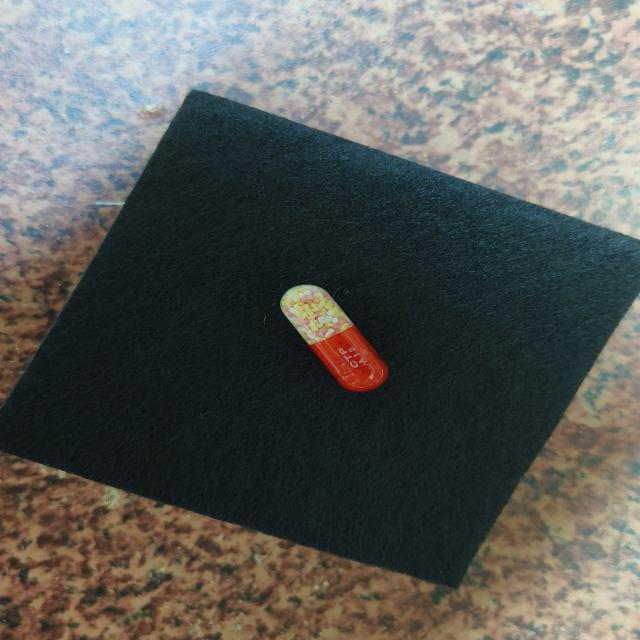Intact Capsule: (280, 285, 389, 392)
